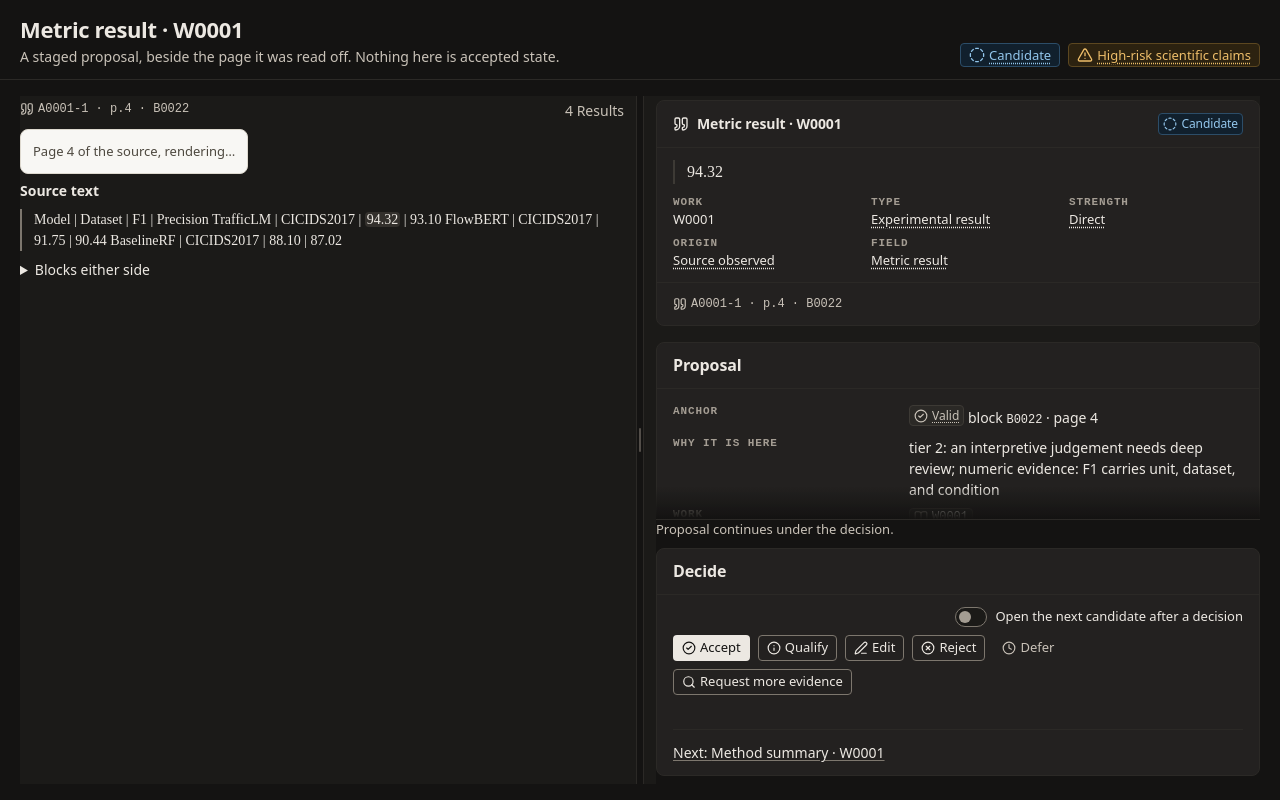
Scenario: decide and next › keeps the outcome on screen and still offers the way forward
This screenshot has width=1280, height=800.
Click the button "Defer" at (1028, 647), box [993,634,1063,660]
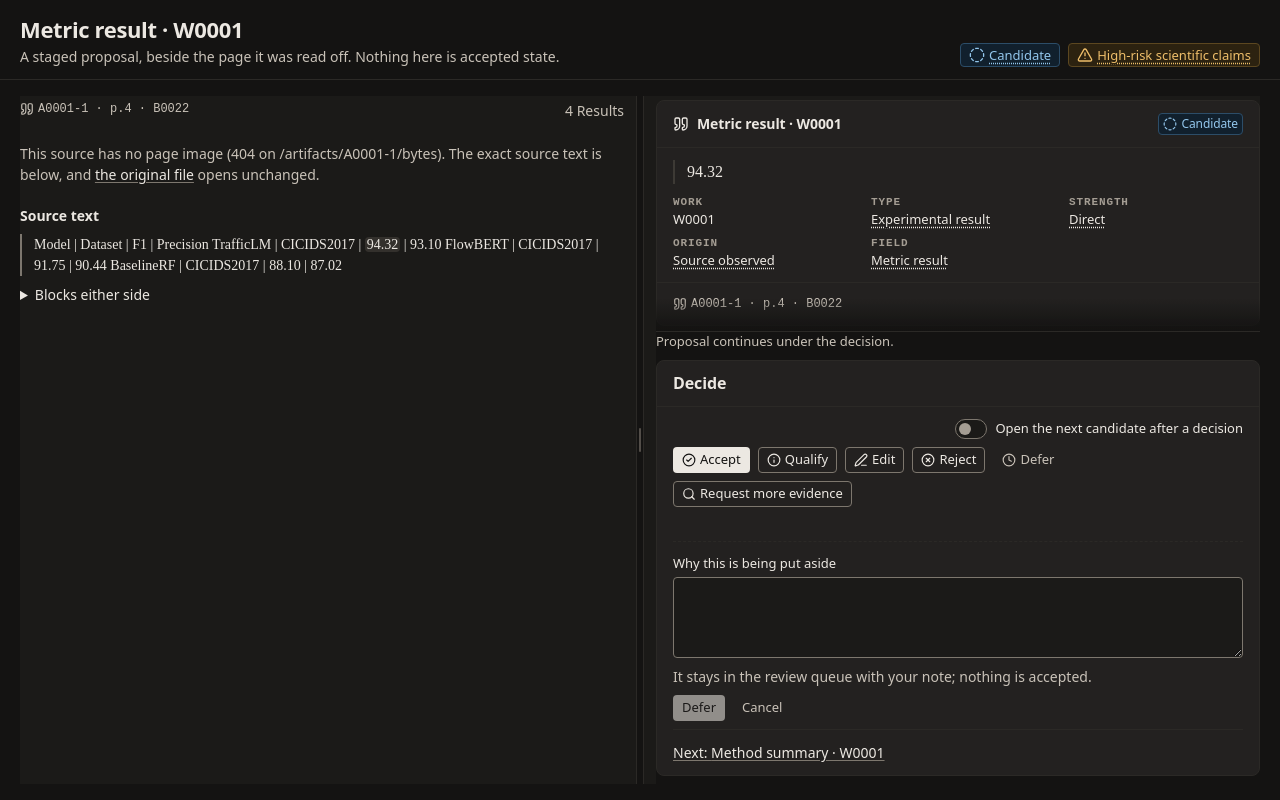
Type "waiting for the appendix" into the text box labelled "Why this is being put aside" at (958, 618), box [673,577,1243,658]
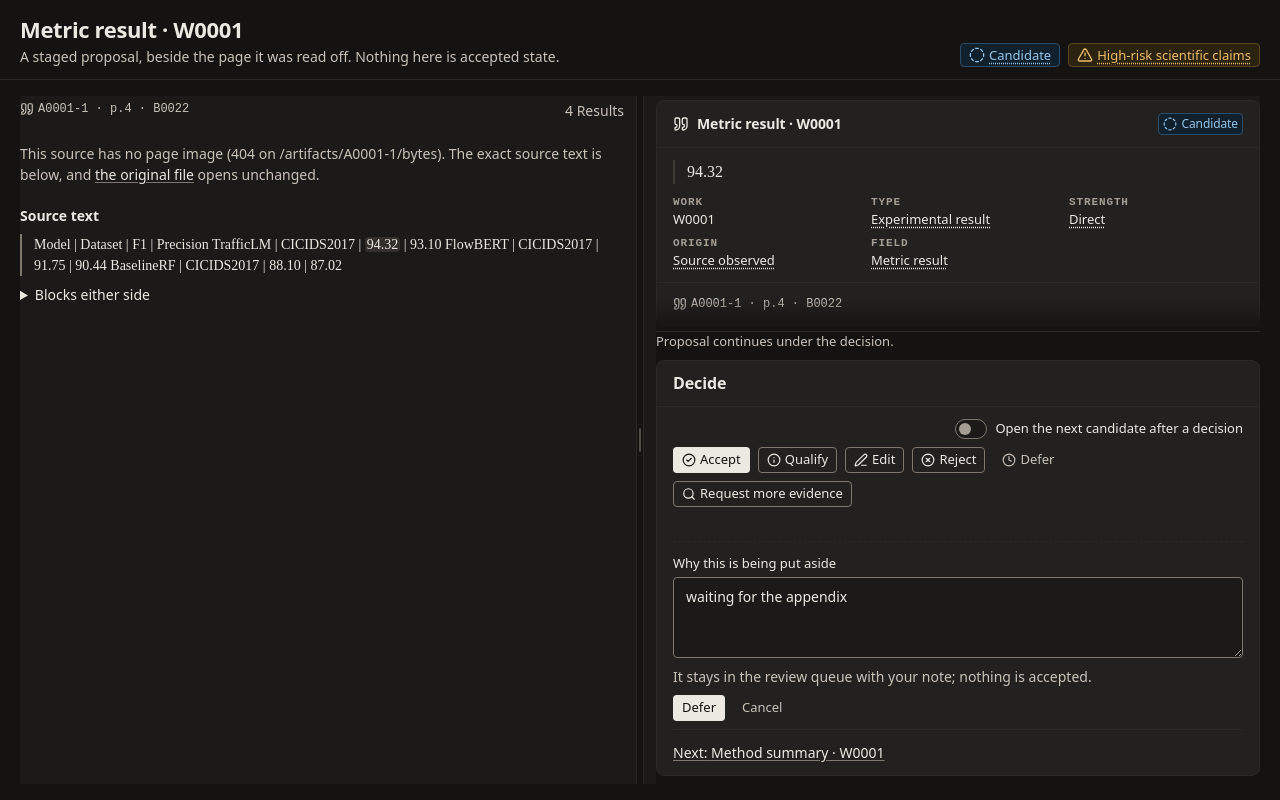
Click the button "Defer" below "Why this is being put aside" at (699, 708), box [673,695,725,721]
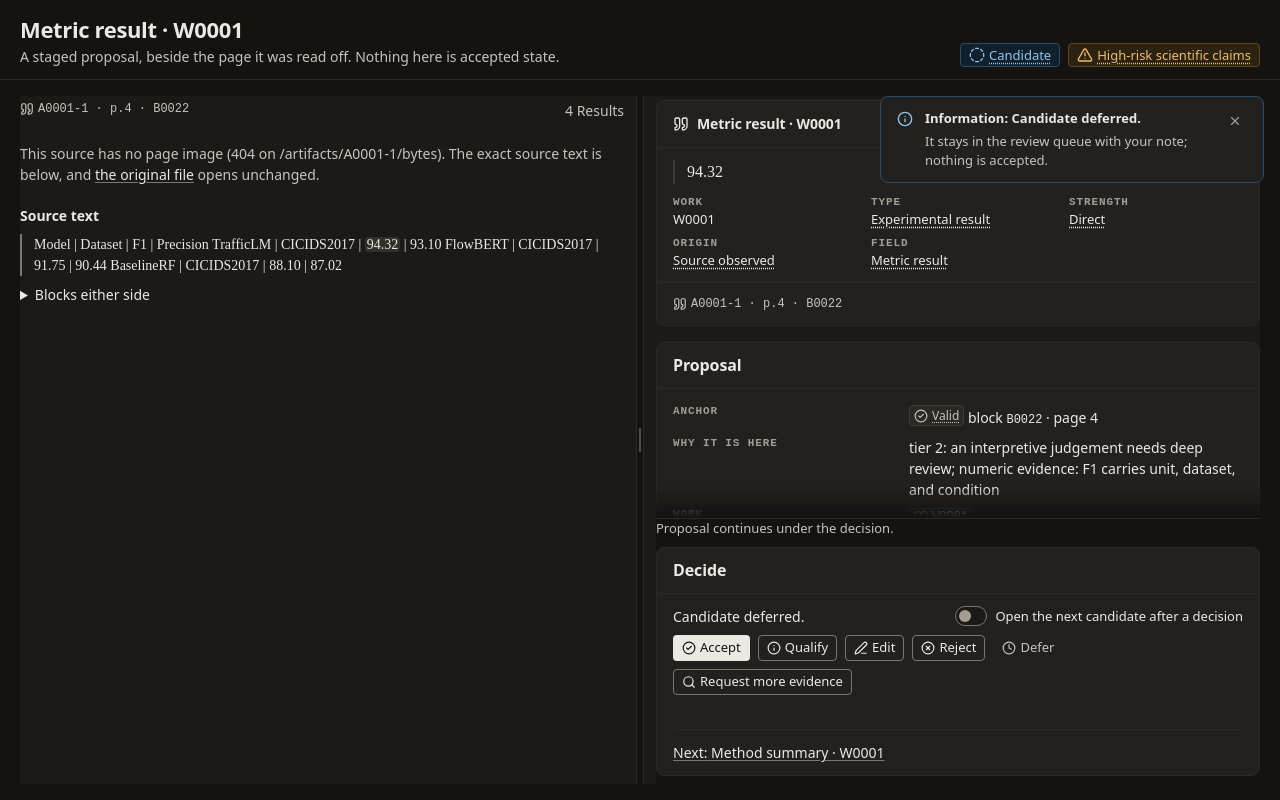
Check: the link "Next: Method summary · W0001" is shown, box [673,742,884,763]
Check: the element "Decide" shows "Candidate deferred.", box [656,546,1260,776]
